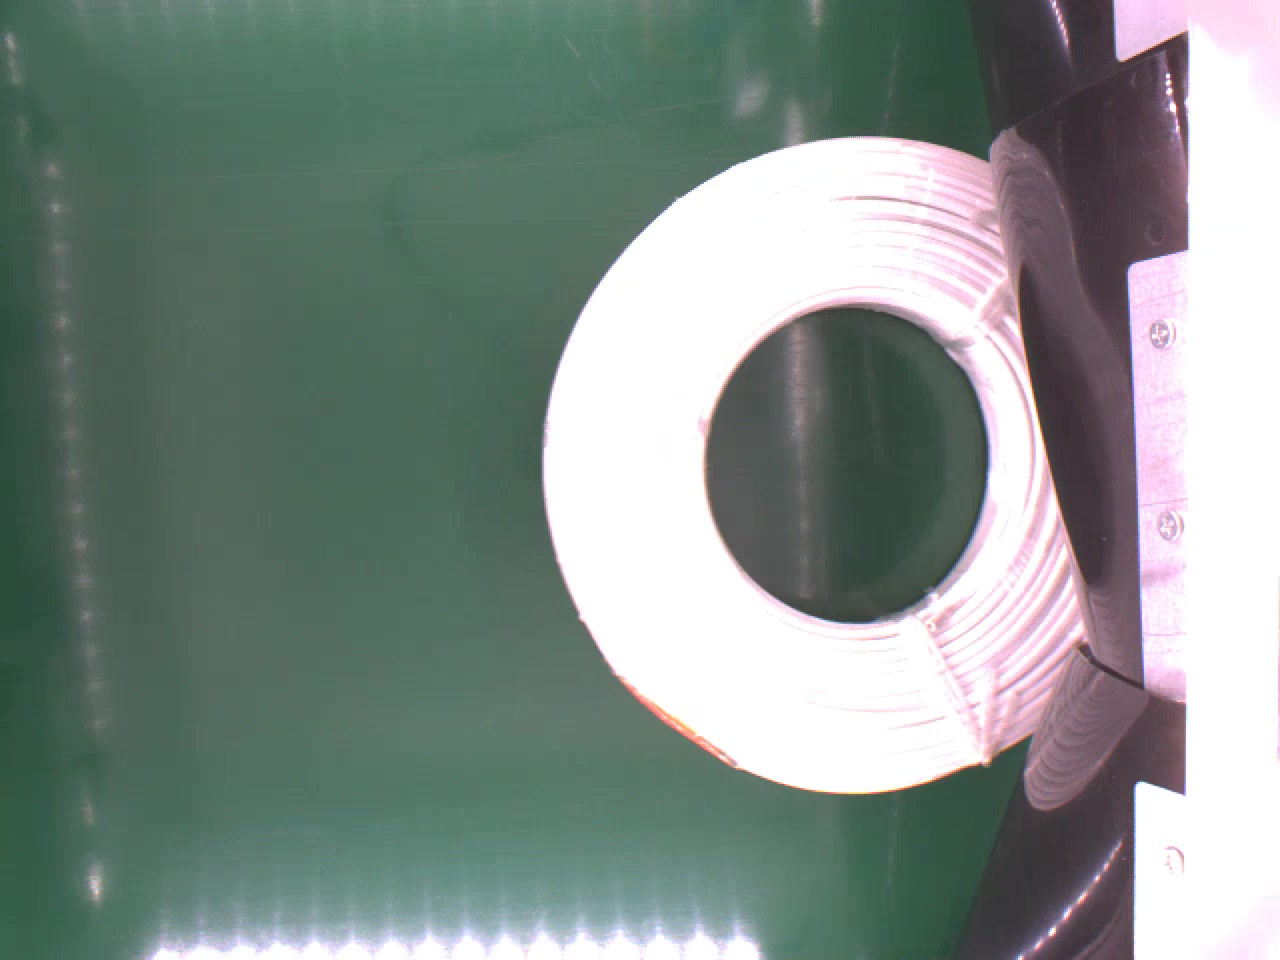white: (541, 128, 1087, 798)
